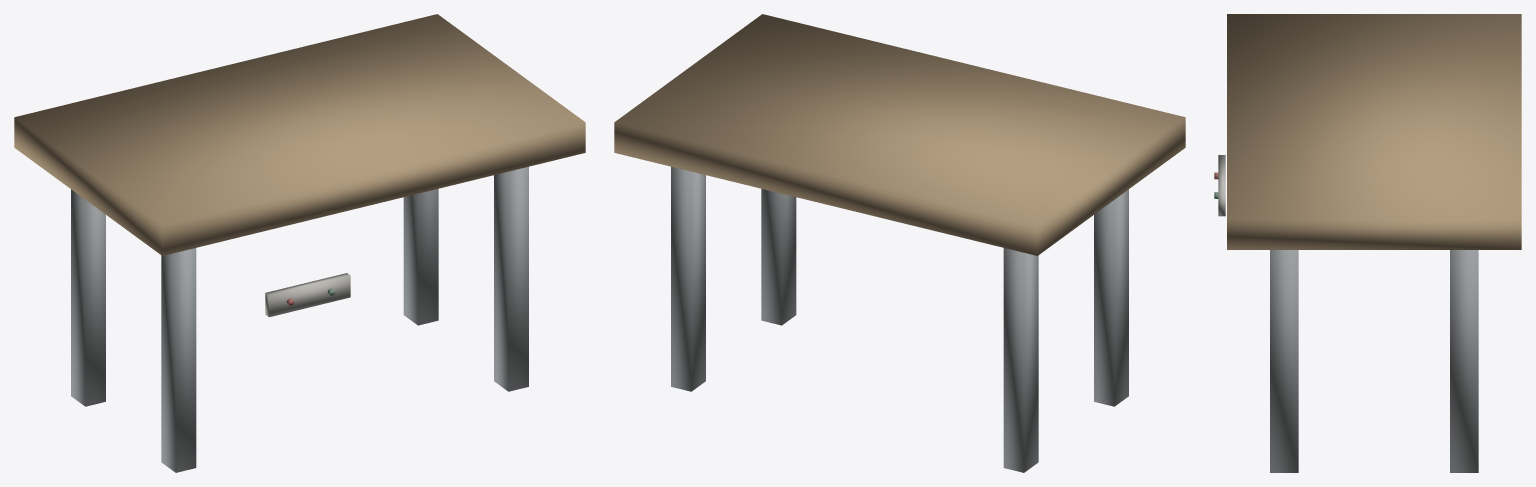
The model's file is workbench__deep.glb.
3 views of the same model, side by side, from view 1: azimuth 30°, elevation 25°; view 2: azimuth 150°, elevation 25°; view 3: azimuth 270°, elevation 25° (orthographic).
Visible parts, largest first — view 1: world; view 2: world; view 3: world.
Part boxes in pixels (x1,y1,x2,y2): world: (14, 14, 585, 472); world: (614, 14, 1185, 472); world: (1214, 14, 1521, 472).
Bounding box in the file's own units: 1.45 × 0.89 × 0.9162.
